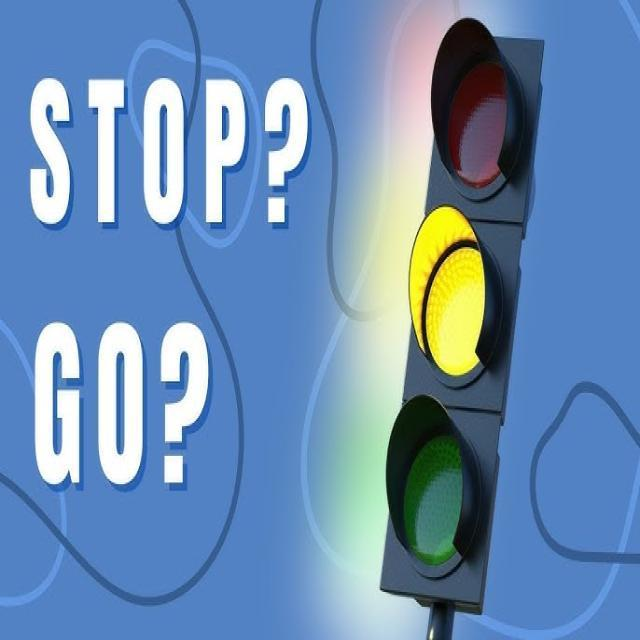yellow_light: (381, 17, 542, 611)
